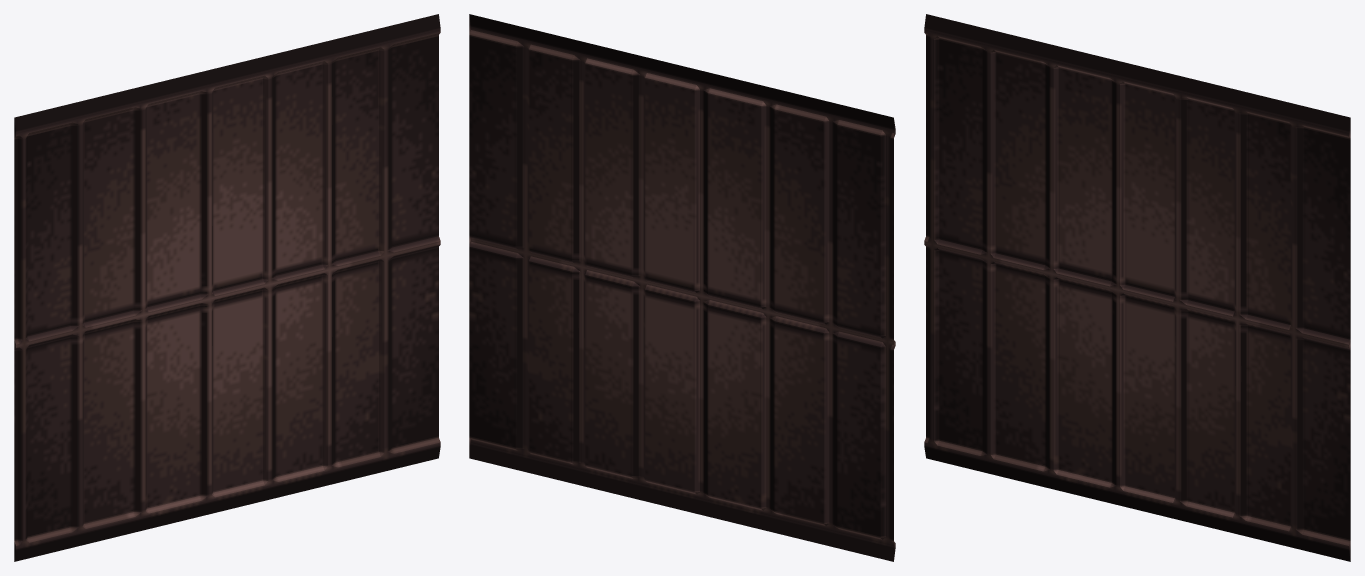
File: eng2_1.fbx
3 views of the same model, side by side, from view 1: azimuth 30°, elevation 25°; view 2: azimuth 150°, elevation 25°; view 3: azimuth 330°, elevation 25° (orthographic).
Visible parts, largest first — view 1: eng2_1_mesh; view 2: eng2_1_mesh; view 3: eng2_1_mesh.
Part boxes in pixels (box(x1,y1,x2,y2)): eng2_1_mesh: box(14, 14, 440, 561); eng2_1_mesh: box(469, 14, 895, 561); eng2_1_mesh: box(924, 14, 1350, 561).
Size of the model in its own units: 256 by 256 by 2.
